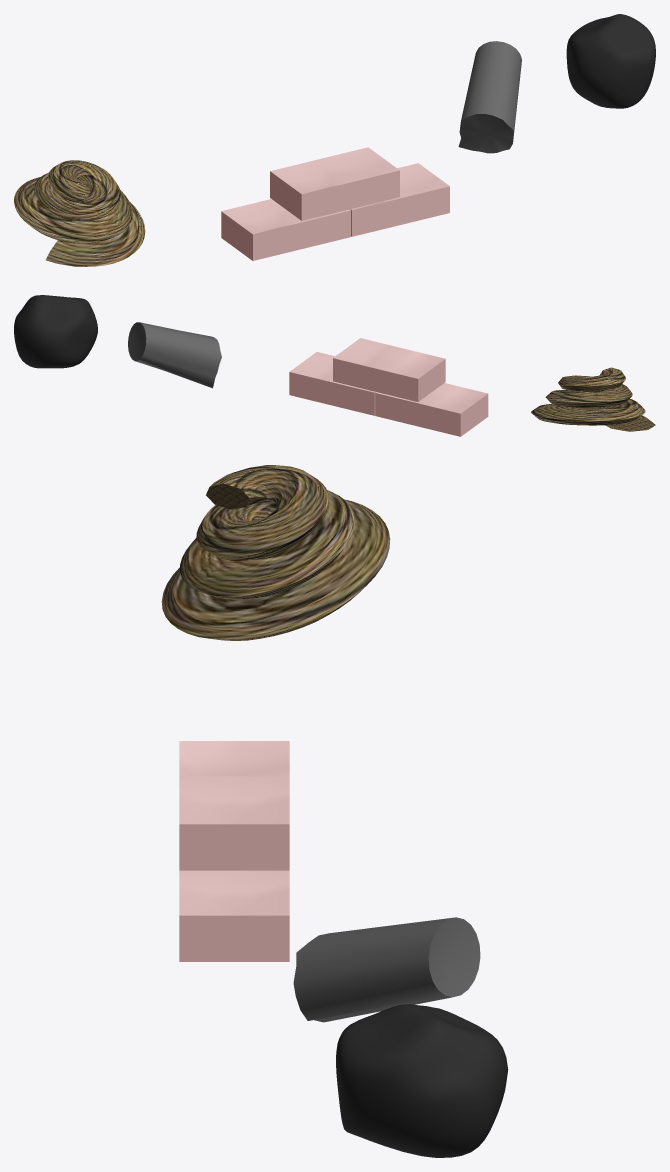
File: Recursos TLALI.dae
The picture shows the model from 3 angles, top to bottom: view 1: azimuth 30°, elevation 25°; view 2: azimuth 150°, elevation 25°; view 3: azimuth 270°, elevation 25°; orthographic projection. The views are drawn at different scales.
Parts seen in each view (by area): view 1: arcilla, cuerda, stone, wood; view 2: arcilla, stone, cuerda, wood; view 3: cuerda, arcilla, stone, wood.
Part boxes in pixels (box(x1,y1,x2,y2)): arcilla: box(221, 147, 449, 260); cuerda: box(14, 160, 145, 266); stone: box(566, 14, 655, 108); wood: box(458, 41, 521, 153); arcilla: box(289, 338, 488, 436); stone: box(14, 295, 97, 368); cuerda: box(531, 367, 655, 431); wood: box(128, 322, 221, 388); cuerda: box(161, 465, 390, 640); arcilla: box(179, 741, 289, 961); stone: box(336, 1004, 508, 1157); wood: box(293, 917, 480, 1022).
Bounding box in the file's own units: 12.22 × 1.88 × 3.14.
